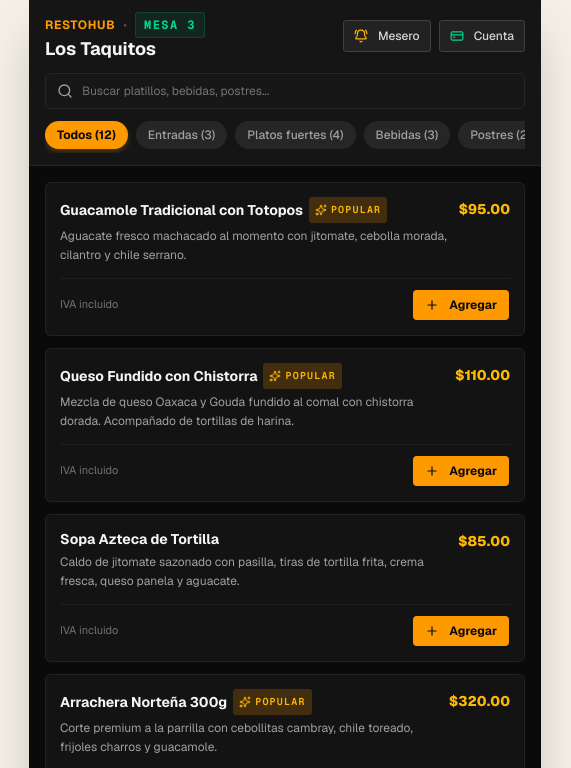
DinerMenuView (Auto-pedido y Menú QR) › permite agregar productos a la comanda y actualiza la barra flotante
# Agregar el primer platillo
Click the button "Agregar" below "Guacamole Tradicional con Totopos" at (461, 304), box left=412, top=288, right=510, bottom=320
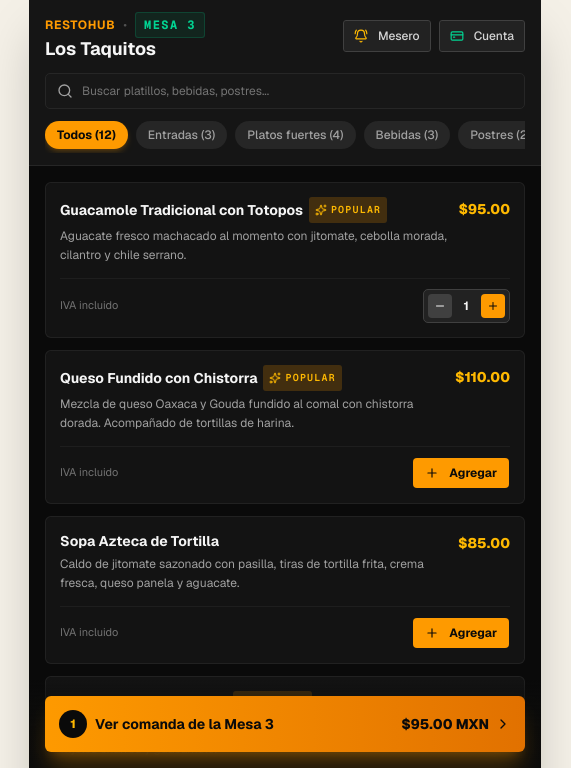
expect the text "Ver comanda de la Mesa 3" is shown: met, box left=95, top=714, right=274, bottom=734
